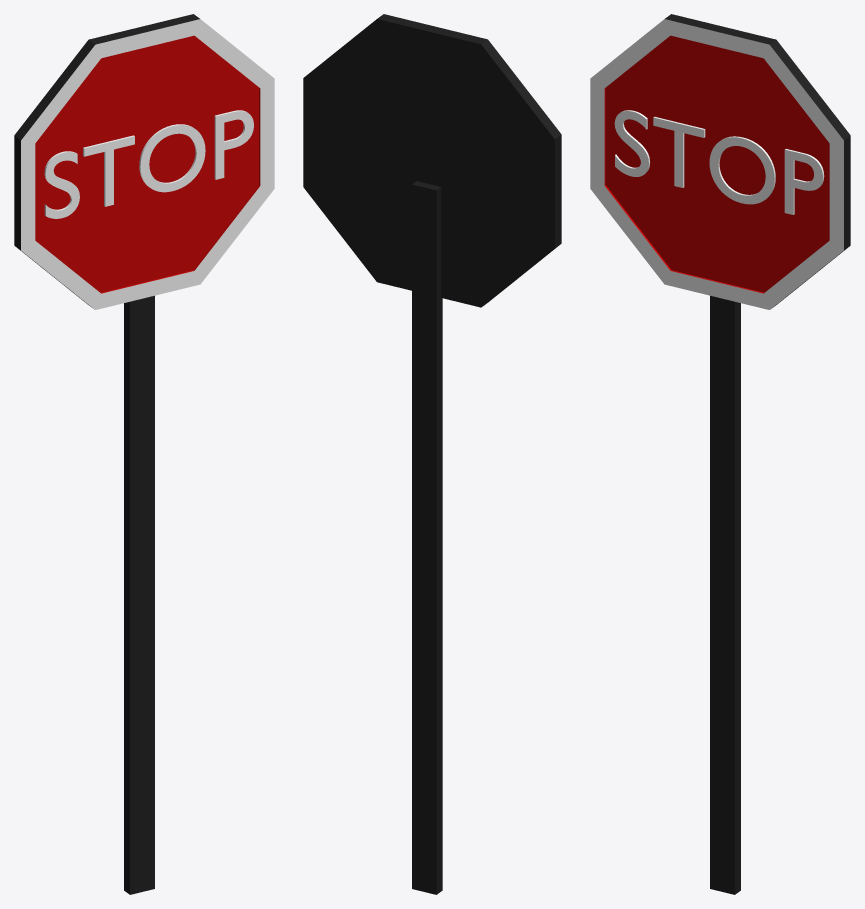
Rendered from stopSign.obj.
The picture shows the model from 3 angles, left to right: view 1: azimuth 30°, elevation 25°; view 2: azimuth 150°, elevation 25°; view 3: azimuth 330°, elevation 25°; orthographic projection.
Visible parts, largest first — view 1: stop_sign; view 2: stop_sign; view 3: stop_sign.
Part boxes in pixels (x1=…): stop_sign: x1=14, y1=14, x2=274, y2=894; stop_sign: x1=303, y1=14, x2=561, y2=894; stop_sign: x1=590, y1=14, x2=850, y2=894.
Size of the model in its own units: 2.56 by 8.32 by 0.2051.
